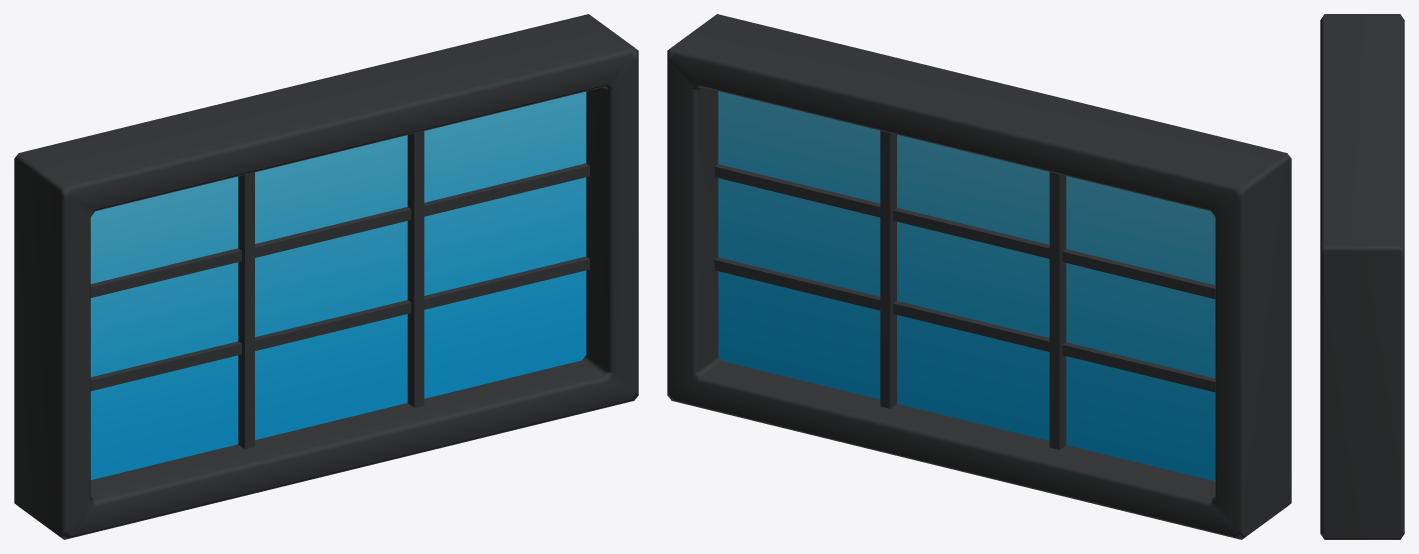
File: Window_Black_02.glb
3 renders of one model, left to right at view 1: azimuth 30°, elevation 25°; view 2: azimuth 150°, elevation 25°; view 3: azimuth 270°, elevation 25°, orthographic. The views are drawn at different scales.
Visible parts, largest first — view 1: Window_Black_02; view 2: Window_Black_02; view 3: Window_Black_02.
Part boxes in pixels (box(x1,y1,x2,y2)): Window_Black_02: box(14, 14, 638, 539); Window_Black_02: box(667, 14, 1291, 539); Window_Black_02: box(1320, 14, 1404, 539).
Size of the model in its own units: 2.64 by 1.54 by 0.4.
Materials: 2 (2 with a texture image).
